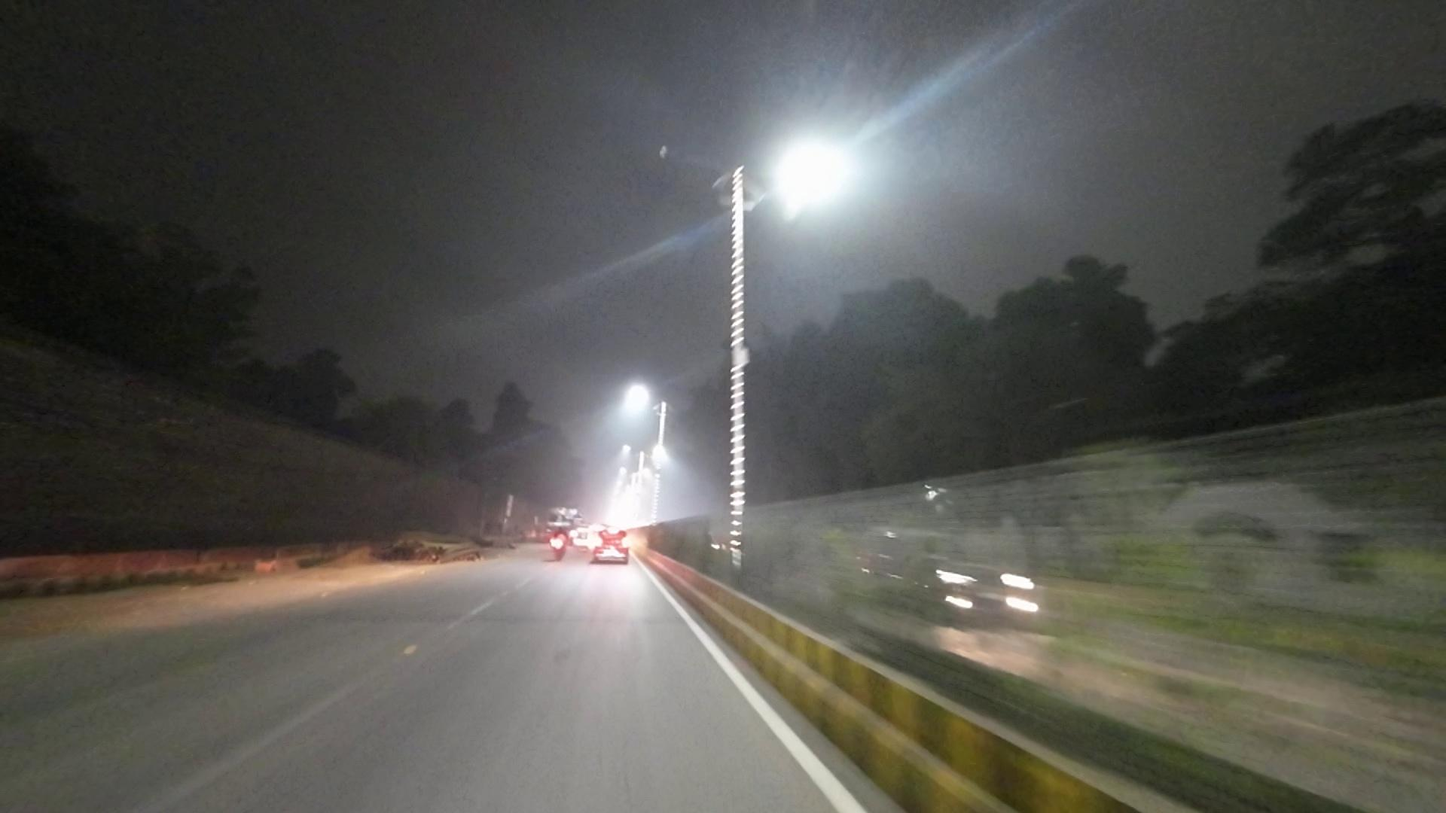streetlight: (644, 138, 718, 173)
